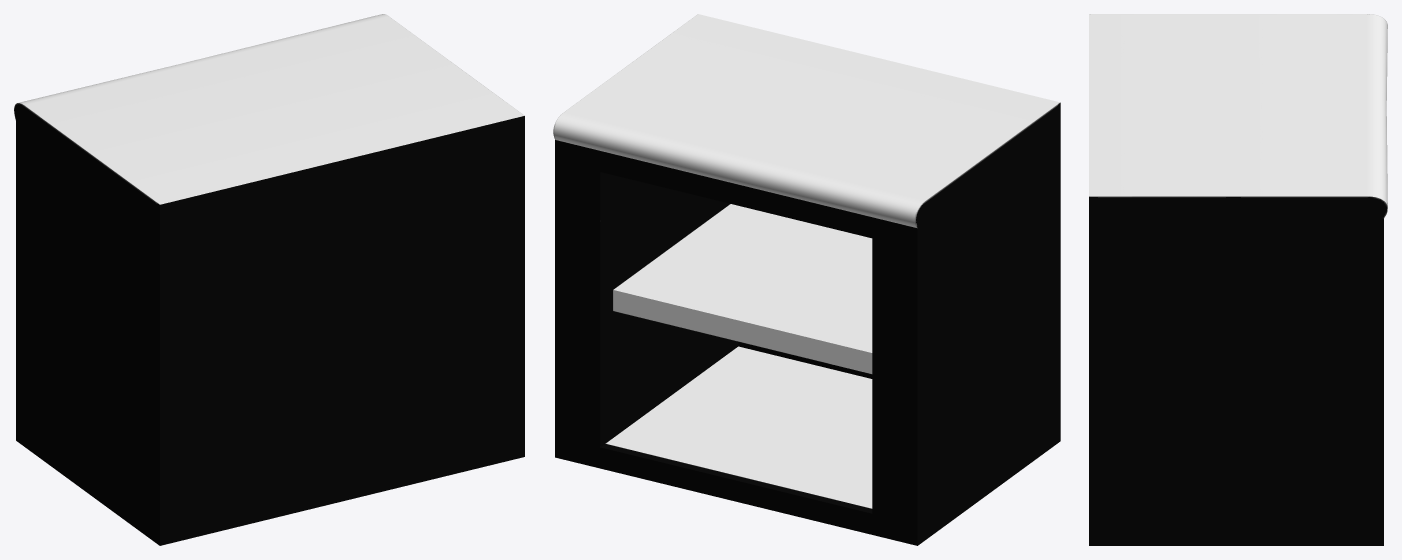
The model's file is Bathroom_Bottom_Round 1.fbx.
The picture shows the model from 3 angles, left to right: view 1: azimuth 30°, elevation 25°; view 2: azimuth 150°, elevation 25°; view 3: azimuth 270°, elevation 25°; orthographic projection. The views are drawn at different scales.
Parts seen in each view (by area): view 1: Bathroom_Bottom_Round; view 2: Bathroom_Bottom_Round; view 3: Bathroom_Bottom_Round.
Part boxes in pixels (bbox=[...]): Bathroom_Bottom_Round: bbox=[14, 14, 524, 545]; Bathroom_Bottom_Round: bbox=[553, 14, 1060, 545]; Bathroom_Bottom_Round: bbox=[1089, 14, 1387, 545].
Size of the model in its own units: 87.79 by 78.42 by 60.75.
Materials: 1 (1 with a texture image).
